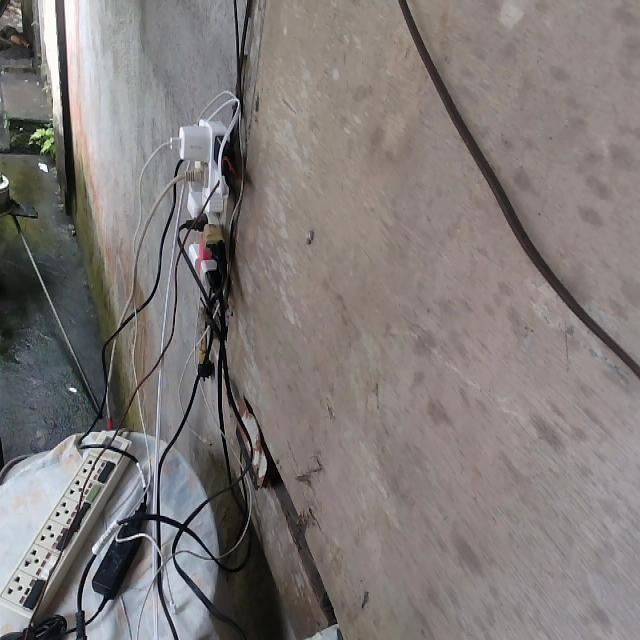-: (156, 115, 248, 297)
